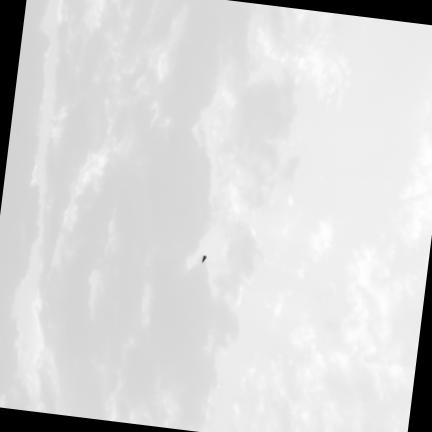Shahed: (201, 255, 205, 262)
